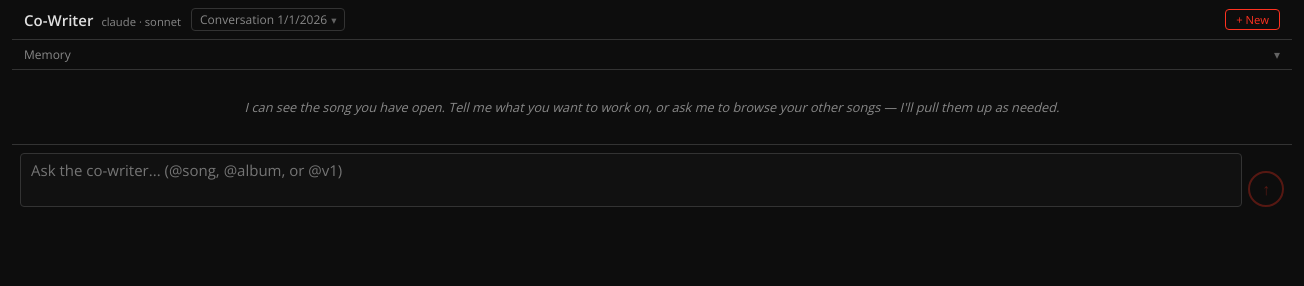
Test: CoWriterPanel proposal target (#238) › badges a proposal for a different song than the one currently open
Type "update the other song" into the text box with class "chat-input". click: (631, 180)
box: [20,153,1242,207]
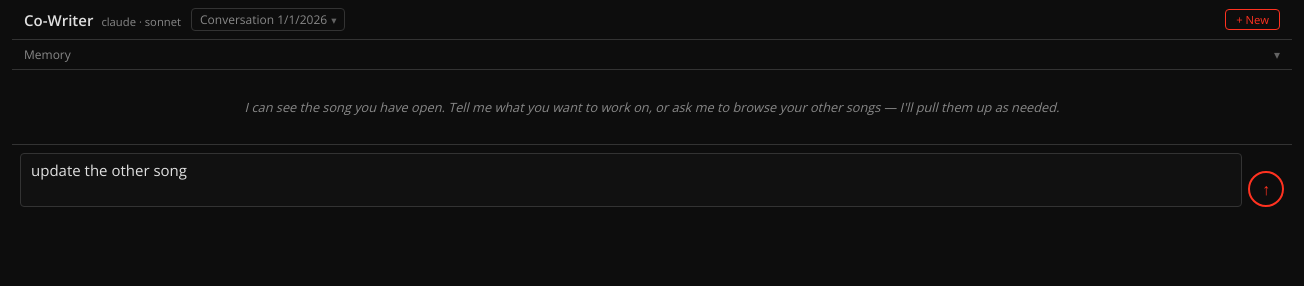
Click the button with class "send-btn". click: click(1266, 189)
box: [1248,171,1284,207]
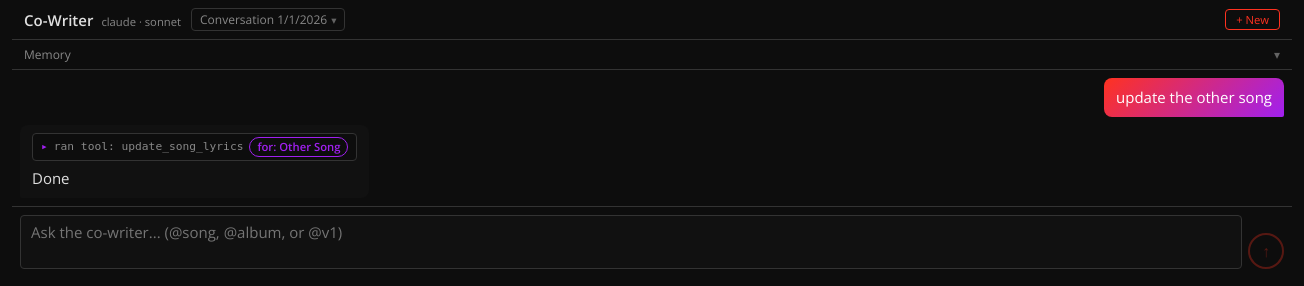
Expected: the element with class "tool-call" is shown, [32,132,357,161]
Expected: the text with class "tool-target" reads "for: Other Song", [257,138,340,154]
